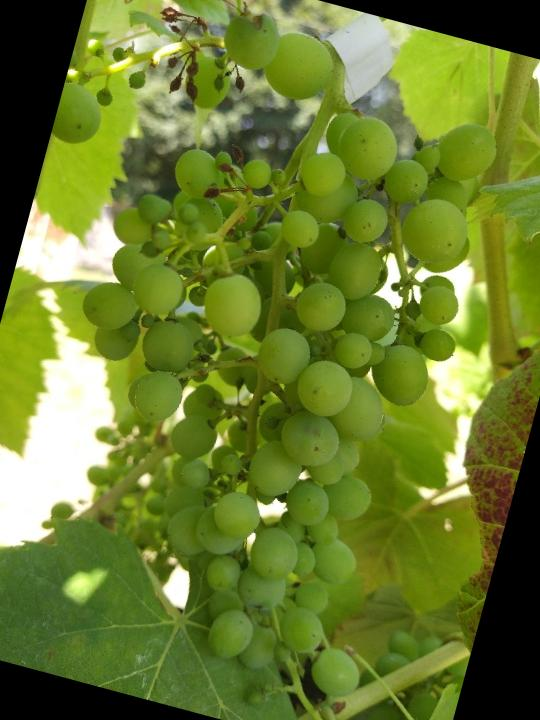grape: (0, 34, 511, 703)
